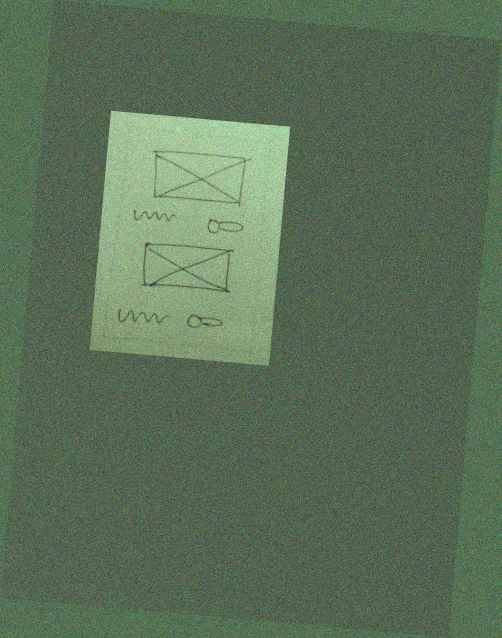image: (146, 145, 254, 213), (136, 237, 237, 297)
switch: (181, 310, 228, 336), (202, 214, 247, 238)
text: (115, 304, 173, 329), (128, 206, 178, 230)
